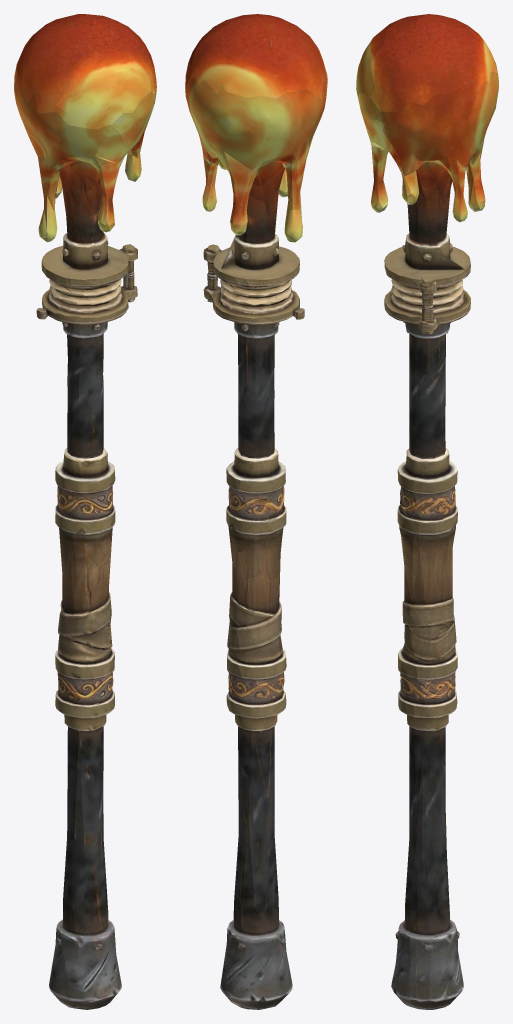
The model's file is arma-tizian.glb.
3 views of the same model, side by side, from view 1: azimuth 30°, elevation 25°; view 2: azimuth 150°, elevation 25°; view 3: azimuth 270°, elevation 25° (orthographic).
Parts seen in each view (by area): view 1: Mesh_0; view 2: Mesh_0; view 3: Mesh_0.
Boxes of the visible parts, x1=… form: Mesh_0: x1=14, y1=14, x2=156, y2=1009; Mesh_0: x1=185, y1=14, x2=327, y2=1009; Mesh_0: x1=356, y1=14, x2=498, y2=1009.
Bounding box in the file's own units: 0.2514 × 1.9 × 0.2512.
Materials: 1 (1 with a texture image).
